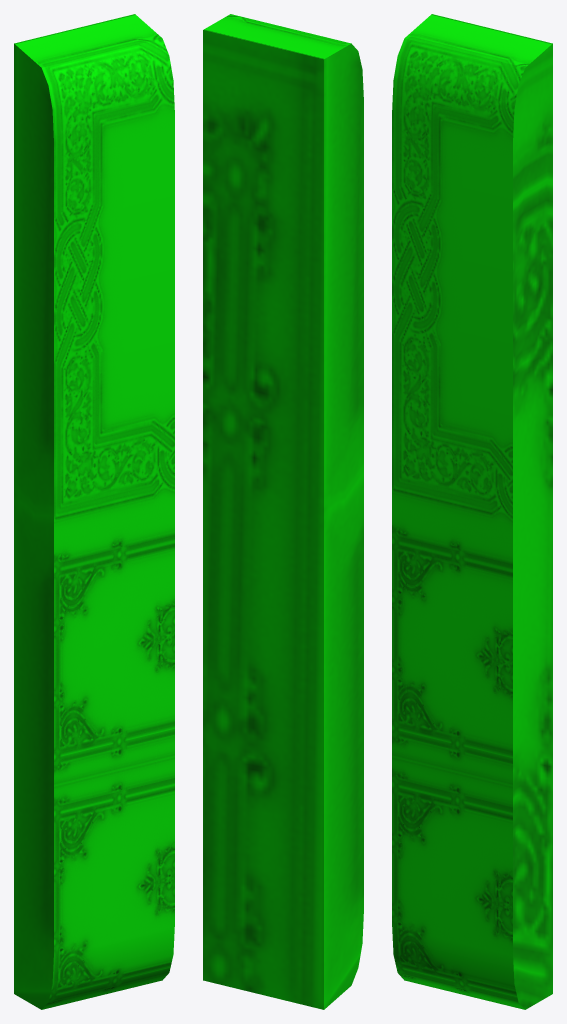
3 renders of one model, left to right at view 1: azimuth 30°, elevation 25°; view 2: azimuth 150°, elevation 25°; view 3: azimuth 330°, elevation 25°, orthographic.
Parts seen in each view (by area): view 1: Box058; view 2: Box058; view 3: Box058.
Boxes of the visible parts, bbox=[...] form: Box058: bbox=[14, 14, 174, 1009]; Box058: bbox=[203, 14, 363, 1009]; Box058: bbox=[392, 14, 552, 1009].
Size of the model in its own units: 20.57 by 155 by 11.73.
